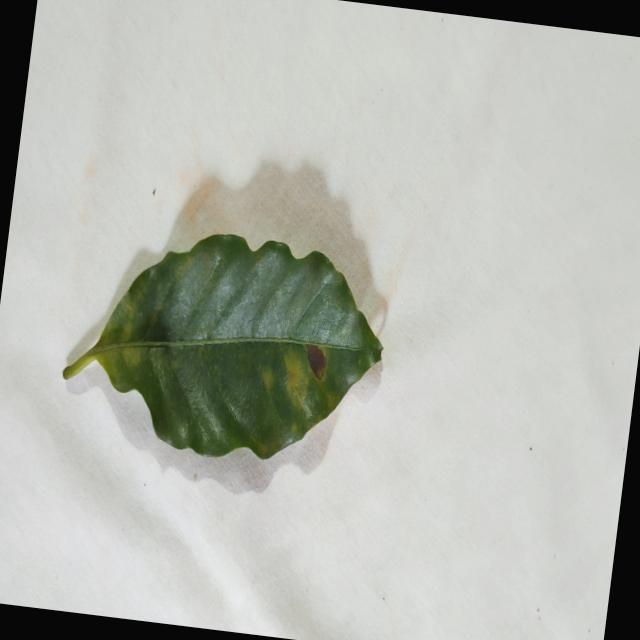KaratDaunKopi: (306, 344, 326, 380)
